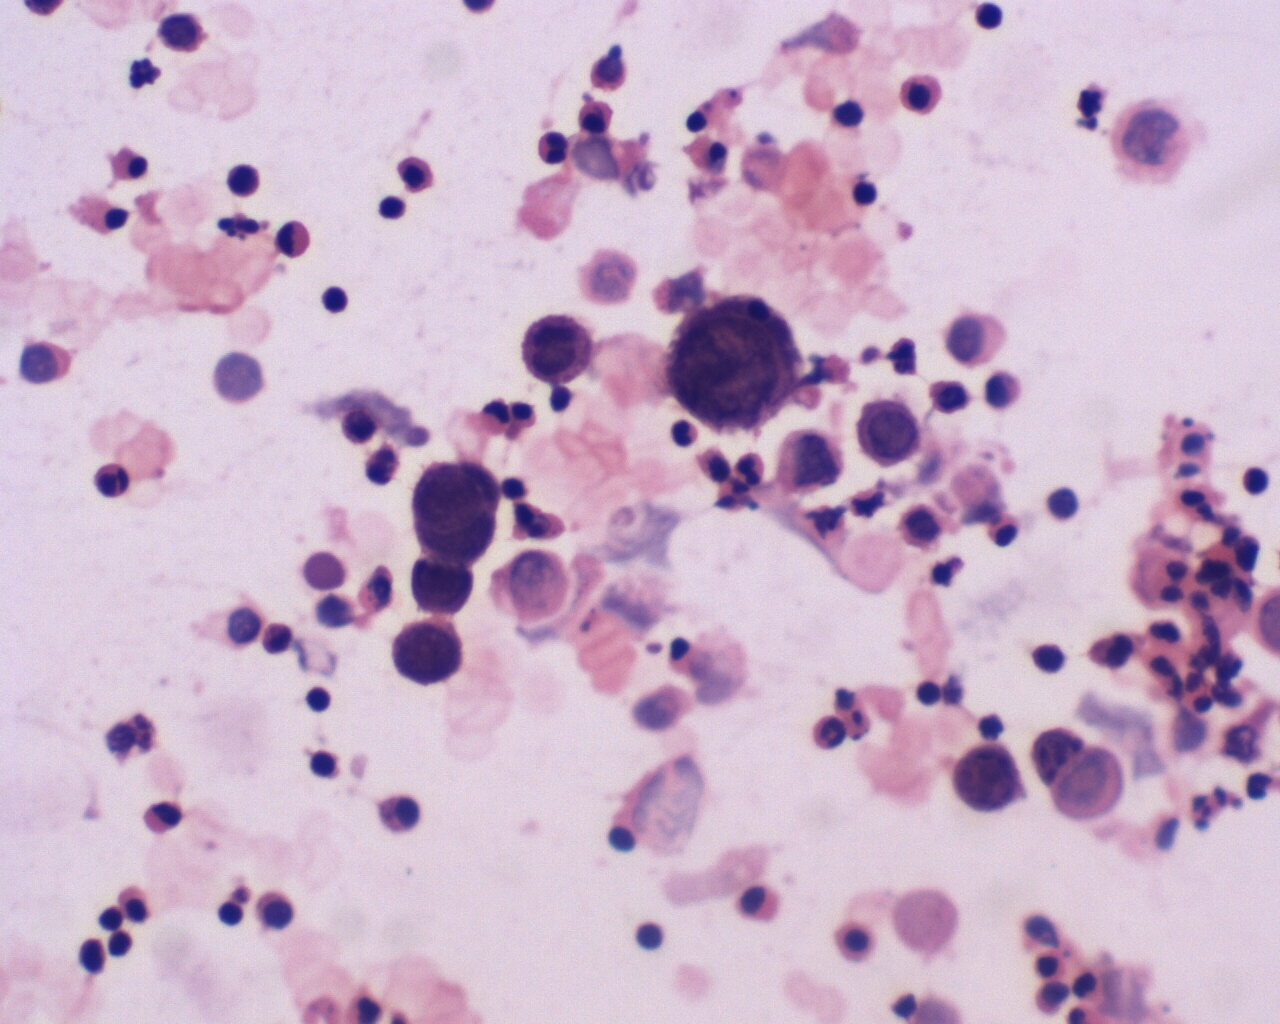ab: (669, 296, 799, 437), (406, 461, 503, 562), (520, 313, 595, 387), (856, 396, 927, 469), (951, 742, 1025, 812), (391, 623, 465, 689), (408, 557, 474, 615)
lymph: (215, 897, 254, 935), (103, 925, 144, 960), (1031, 639, 1067, 676), (850, 174, 887, 209), (968, 1, 1006, 34), (317, 281, 350, 317), (302, 683, 338, 717), (1241, 465, 1274, 496), (376, 192, 408, 225)
meso: (832, 921, 885, 971), (895, 71, 951, 118)
neutro: (91, 456, 133, 502), (730, 447, 768, 487), (811, 715, 847, 753)
